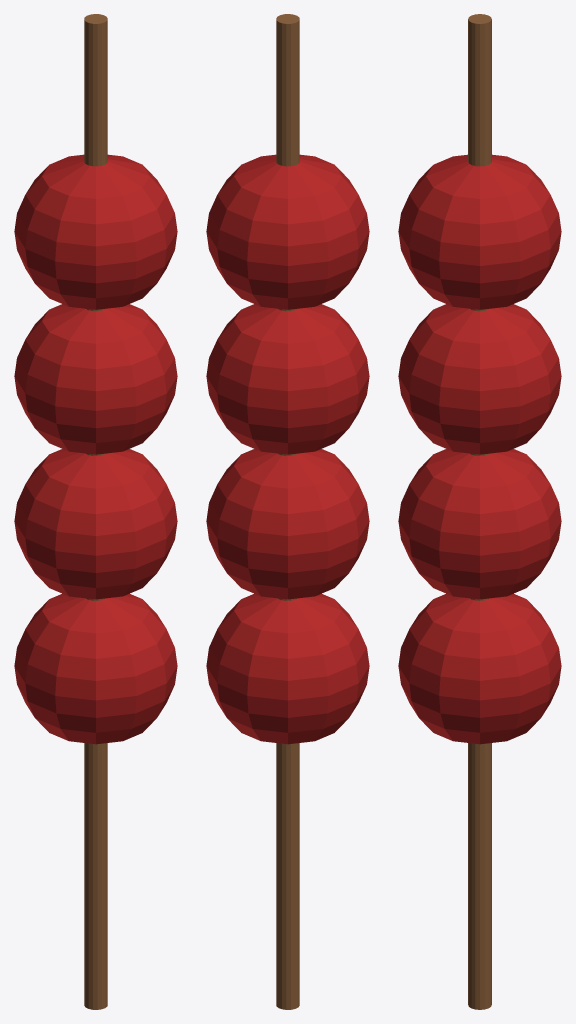
Rendered from scendance-plan-cn-candied-hawthorn.glb.
3 views of the same model, side by side, from view 1: azimuth 30°, elevation 25°; view 2: azimuth 150°, elevation 25°; view 3: azimuth 270°, elevation 25° (orthographic).
Size of the model in its own units: 0.048 by 0.32 by 0.048.
